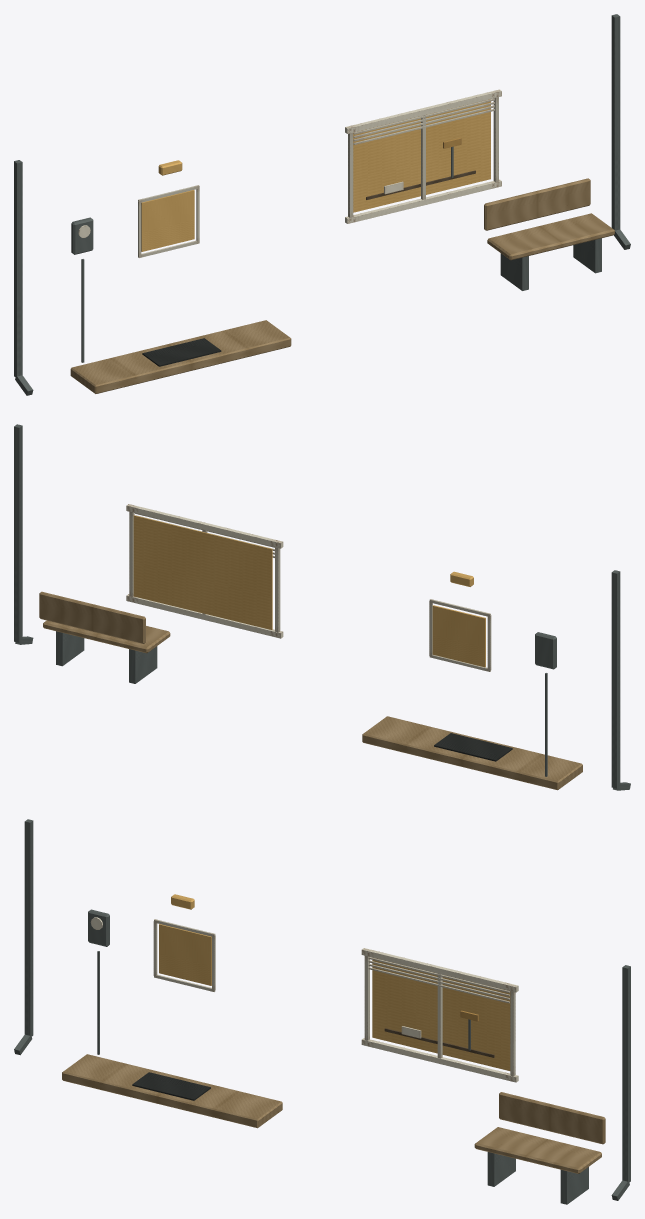
File: OfficeDetails.fbx
3 renders of one model, top to bottom at view 1: azimuth 30°, elevation 25°; view 2: azimuth 150°, elevation 25°; view 3: azimuth 330°, elevation 25°, orthographic.
Visible parts, largest first — view 1: OfficeDetails; view 2: OfficeDetails; view 3: OfficeDetails.
Boxes of the visible parts, box(x1,y1,x2,y2) form: OfficeDetails: box(14, 14, 630, 395); OfficeDetails: box(14, 424, 630, 790); OfficeDetails: box(14, 819, 630, 1204).
Bounding box in the file's own units: 827 × 302 × 68.
